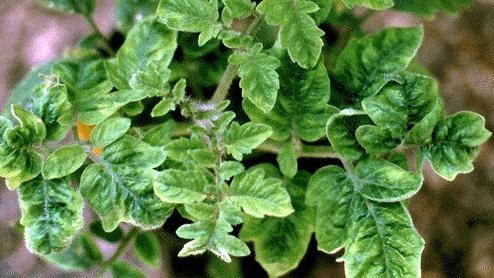Tomato leaf yellow virus: (317, 157, 430, 278), (64, 137, 169, 242), (330, 24, 430, 117), (0, 166, 91, 264), (255, 0, 327, 75), (109, 13, 177, 88), (217, 165, 293, 230), (144, 159, 219, 213), (150, 0, 228, 47)
